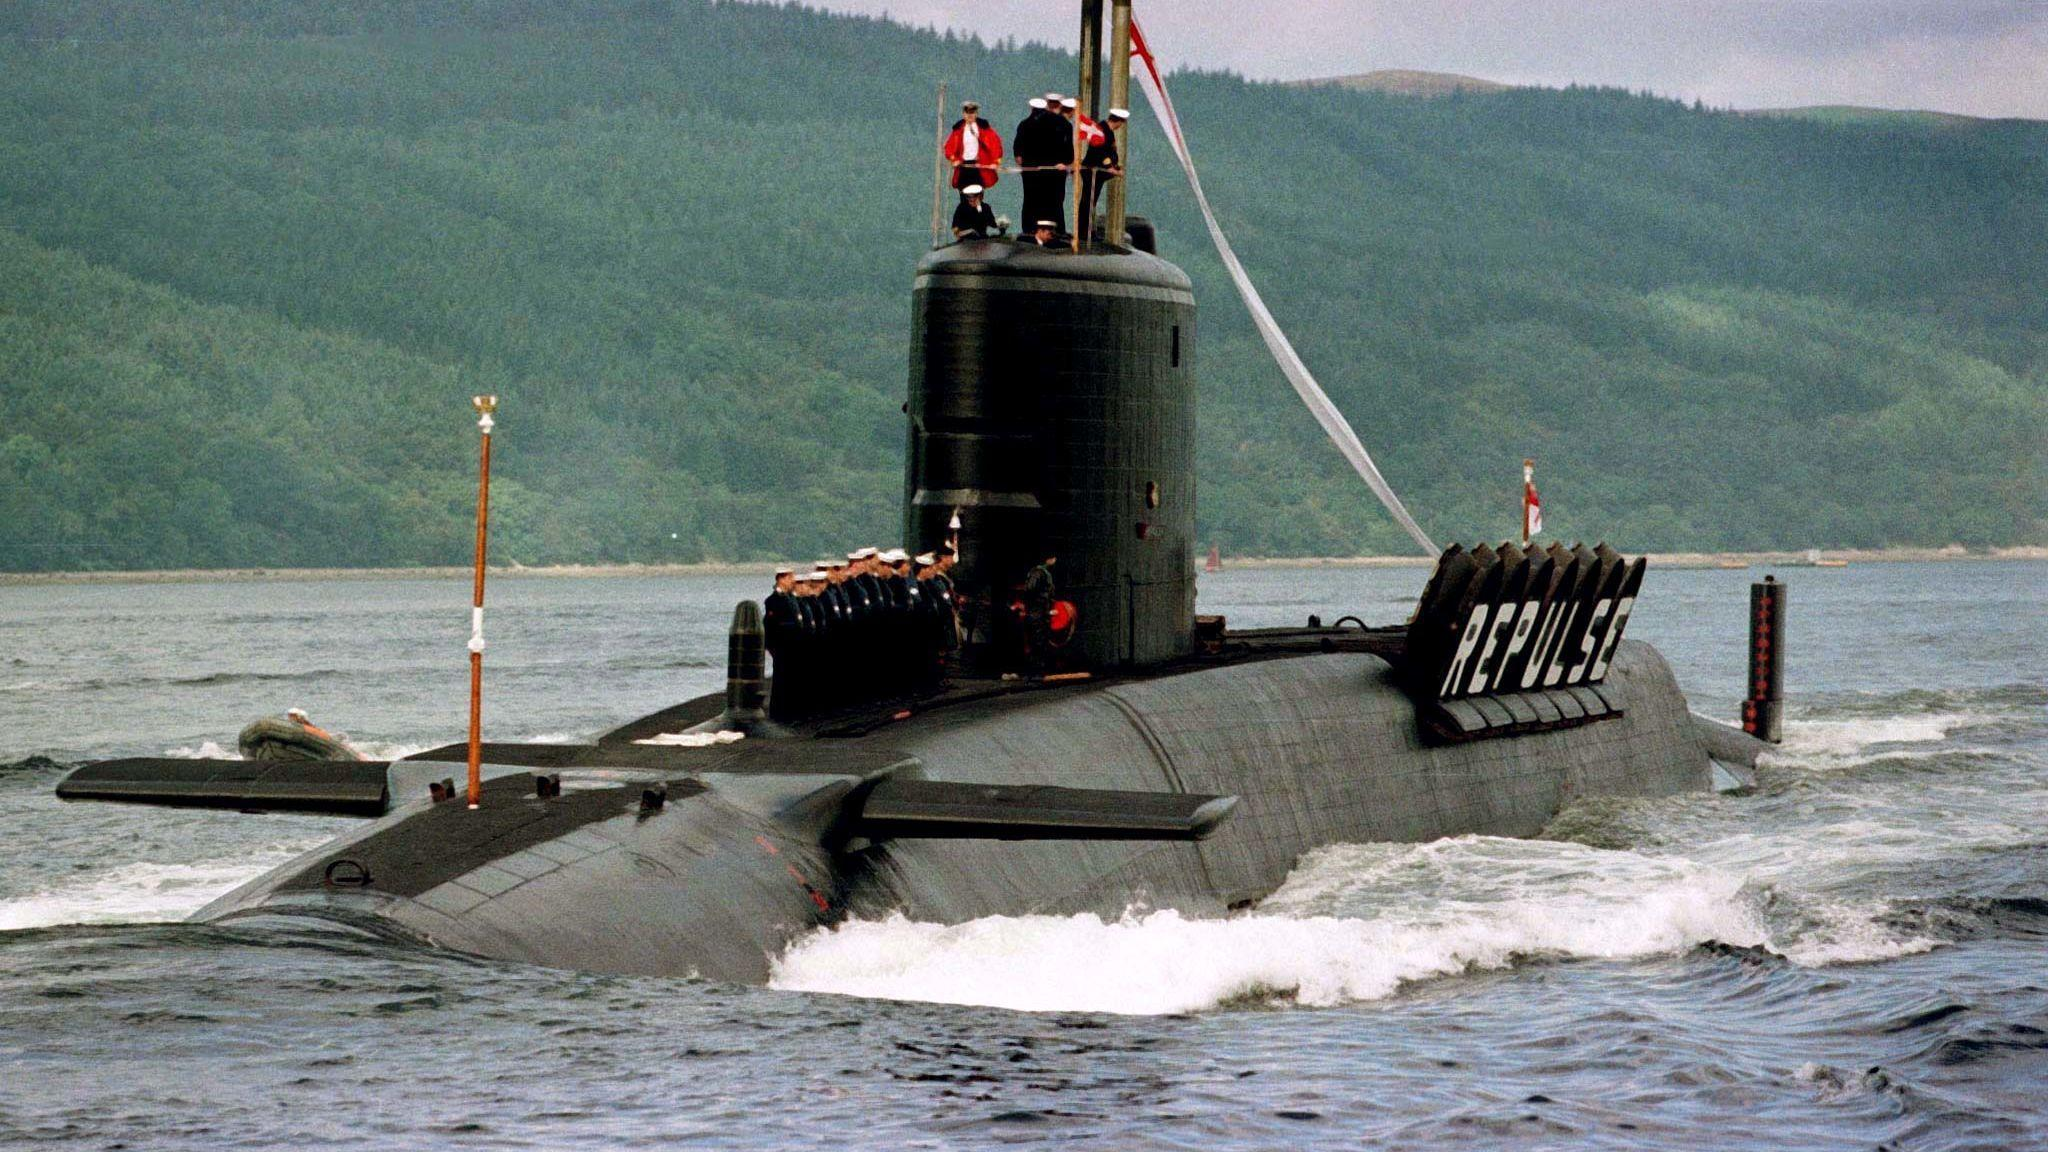Submarine: (0, 0, 1903, 1093)
